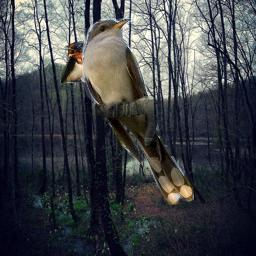Cuckoo: (82, 18, 194, 205)
Swallow: (61, 41, 95, 83)
